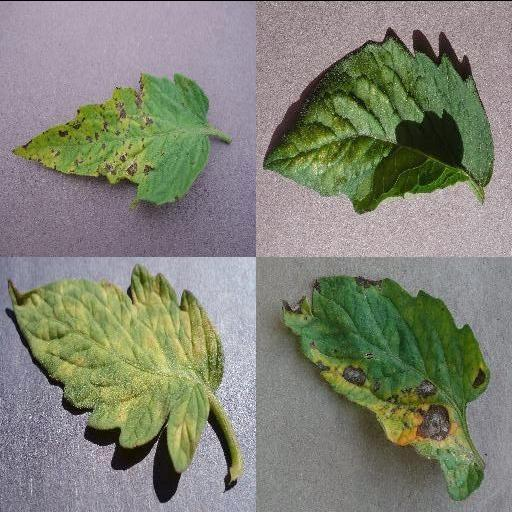Early Blight: (278, 272, 490, 500)
Leaf Mold: (7, 264, 225, 472)
Septoria: (10, 72, 210, 205)
Spider Mites: (263, 37, 495, 213)
